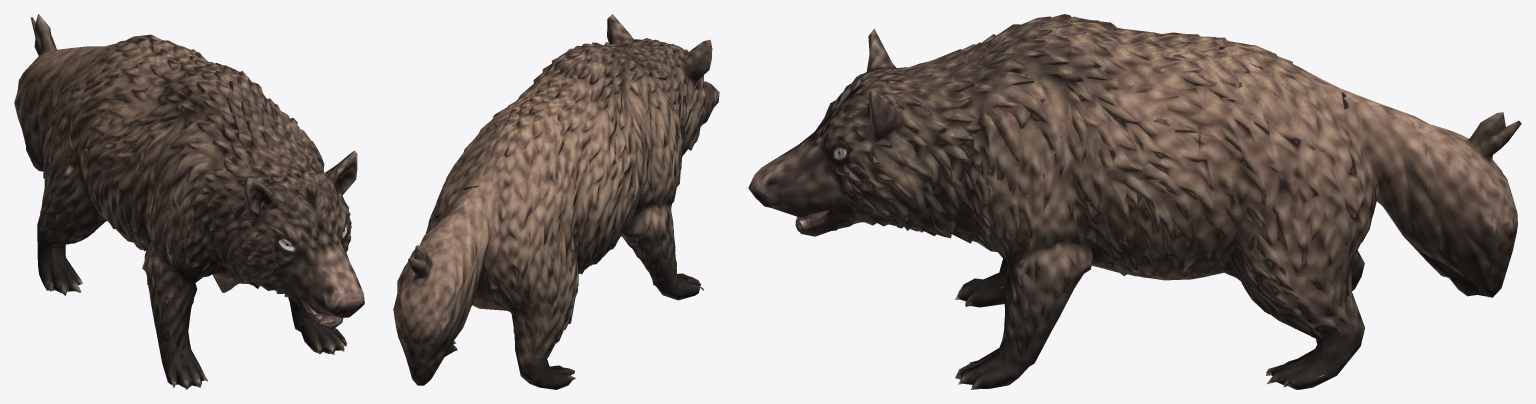
File: boar.glb
The picture shows the model from 3 angles, left to right: view 1: azimuth 30°, elevation 25°; view 2: azimuth 150°, elevation 25°; view 3: azimuth 270°, elevation 25°; orthographic projection. The views are drawn at different scales.
Visible parts, largest first — view 1: MeshyFit; view 2: MeshyFit; view 3: MeshyFit.
Boxes of the visible parts, left/top/right/bottom form: MeshyFit: left=14, top=14, right=364, bottom=389; MeshyFit: left=393, top=14, right=719, bottom=389; MeshyFit: left=748, top=14, right=1521, bottom=389.
Size of the model in its own units: 0.6426 by 0.95 by 2.05.
1 material, 1 textured.
